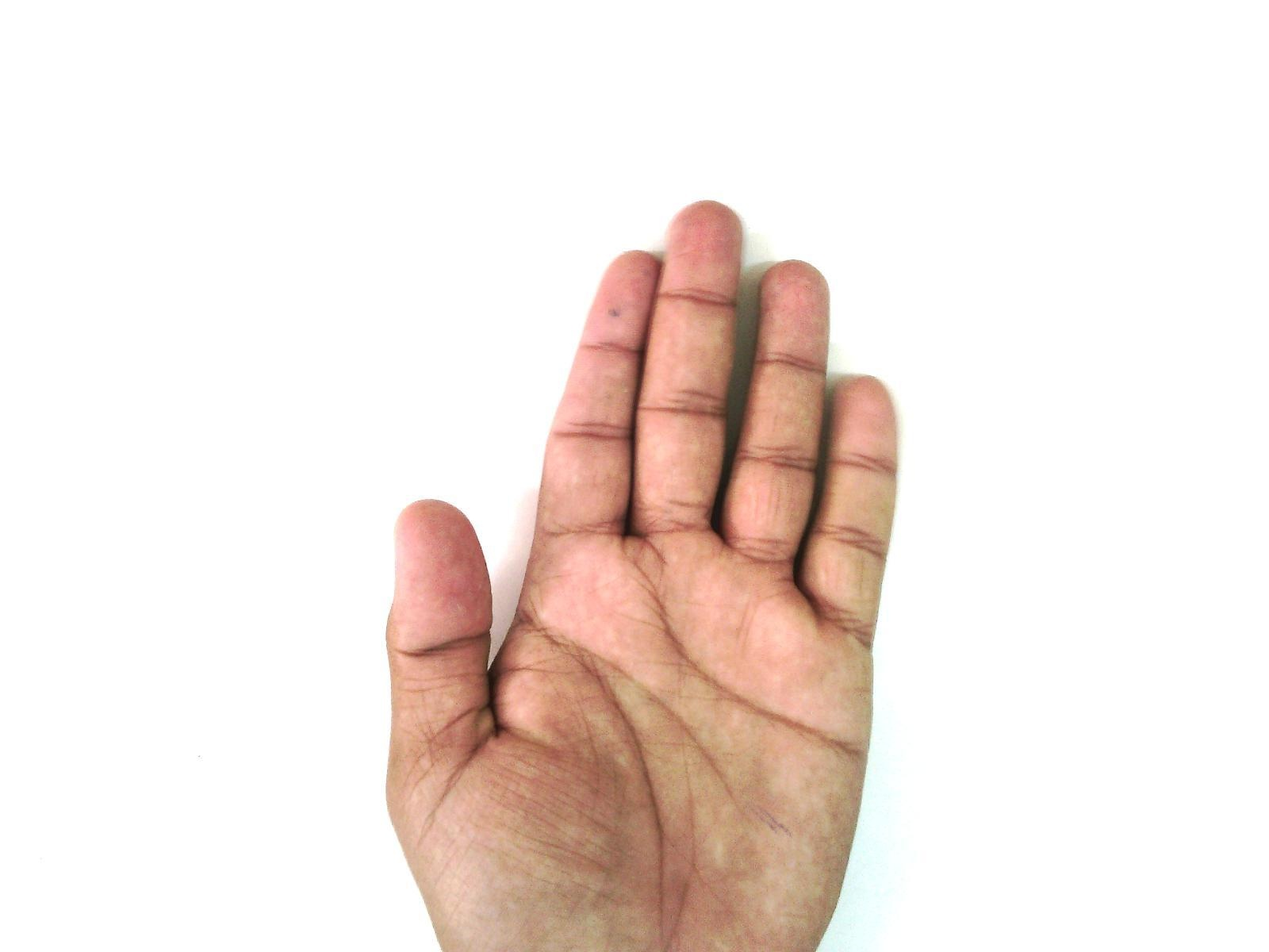open_palm: (381, 199, 903, 951)
